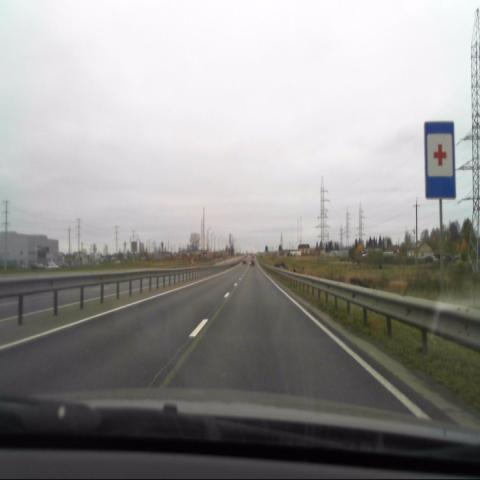7_1: (424, 120, 456, 197)
